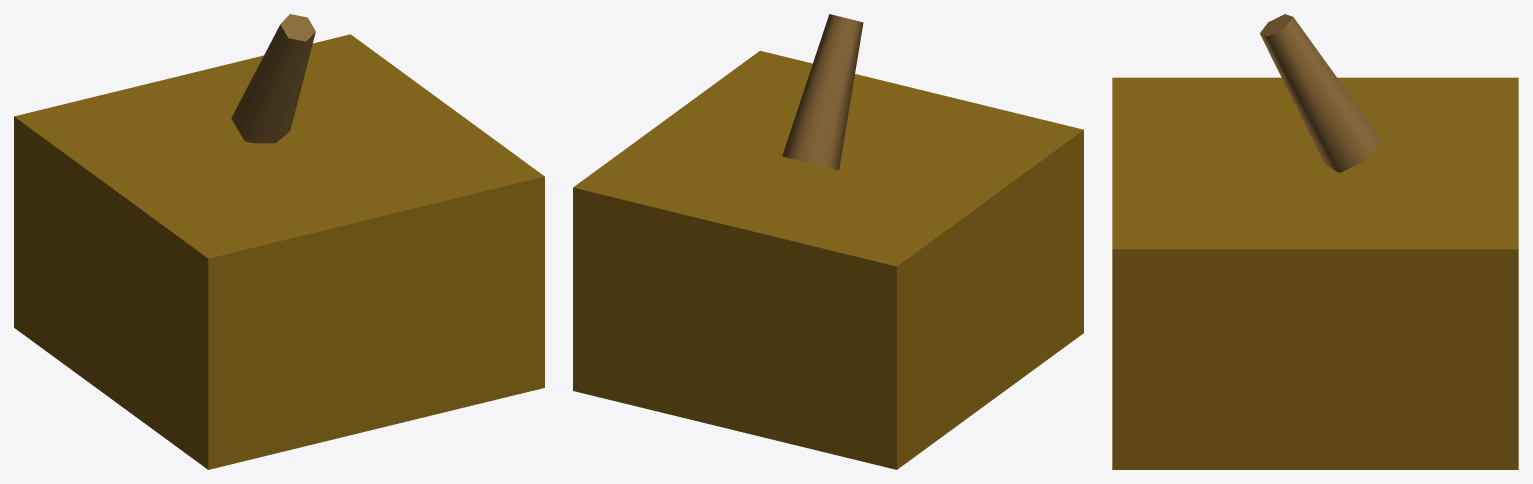
File: observatory_t1.glb
The picture shows the model from 3 angles, left to right: view 1: azimuth 30°, elevation 25°; view 2: azimuth 150°, elevation 25°; view 3: azimuth 270°, elevation 25°; orthographic projection. The views are drawn at different scales.
Parts seen in each view (by area): view 1: building-observatory; view 2: building-observatory; view 3: building-observatory.
Part boxes in pixels (left/top/right/bottom): building-observatory: left=14, top=14, right=544, bottom=469; building-observatory: left=573, top=14, right=1083, bottom=469; building-observatory: left=1112, top=14, right=1518, bottom=469.
Size of the model in its own units: 0.0636 by 0.0635 by 0.0636.
